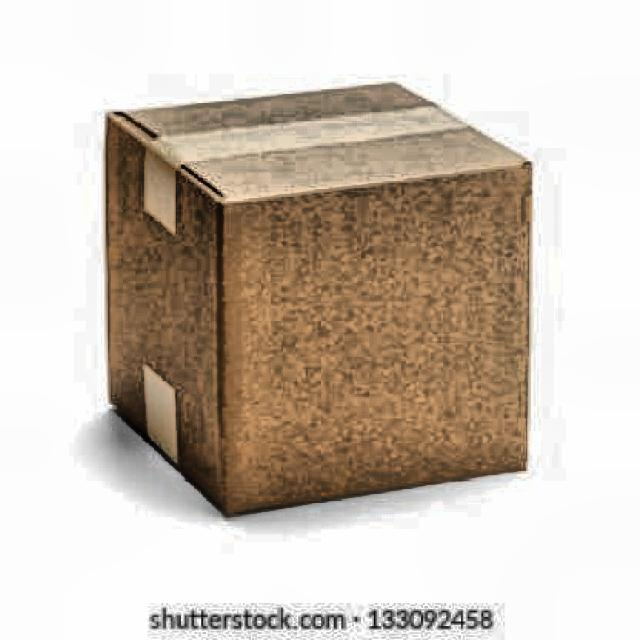Cardbox: (82, 66, 556, 516)
